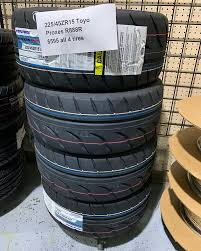tire: (12, 7, 169, 90), (23, 78, 163, 156), (34, 138, 158, 202), (41, 177, 153, 235)
